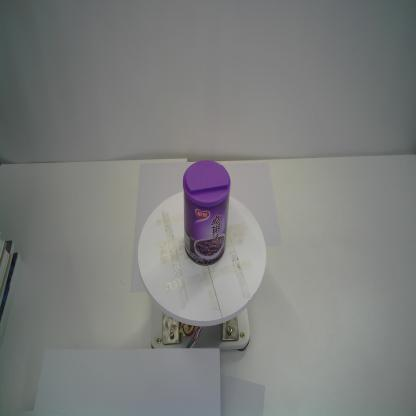Canned Food: (181, 158, 232, 265)
